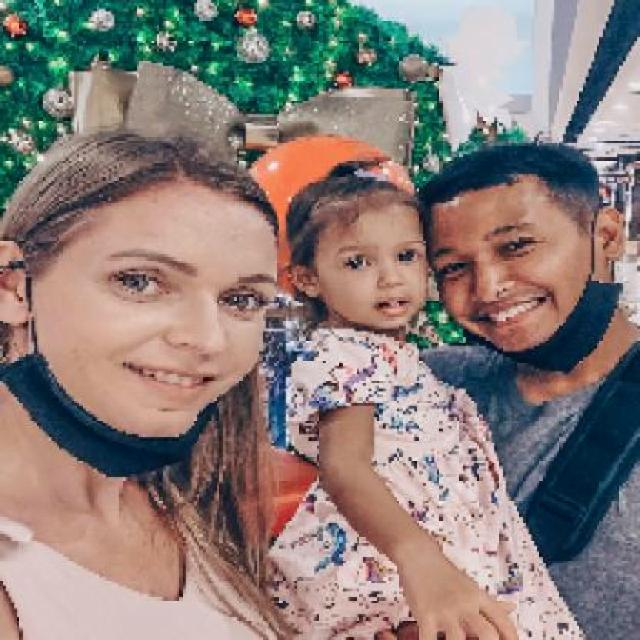child: (263, 160, 586, 637)
